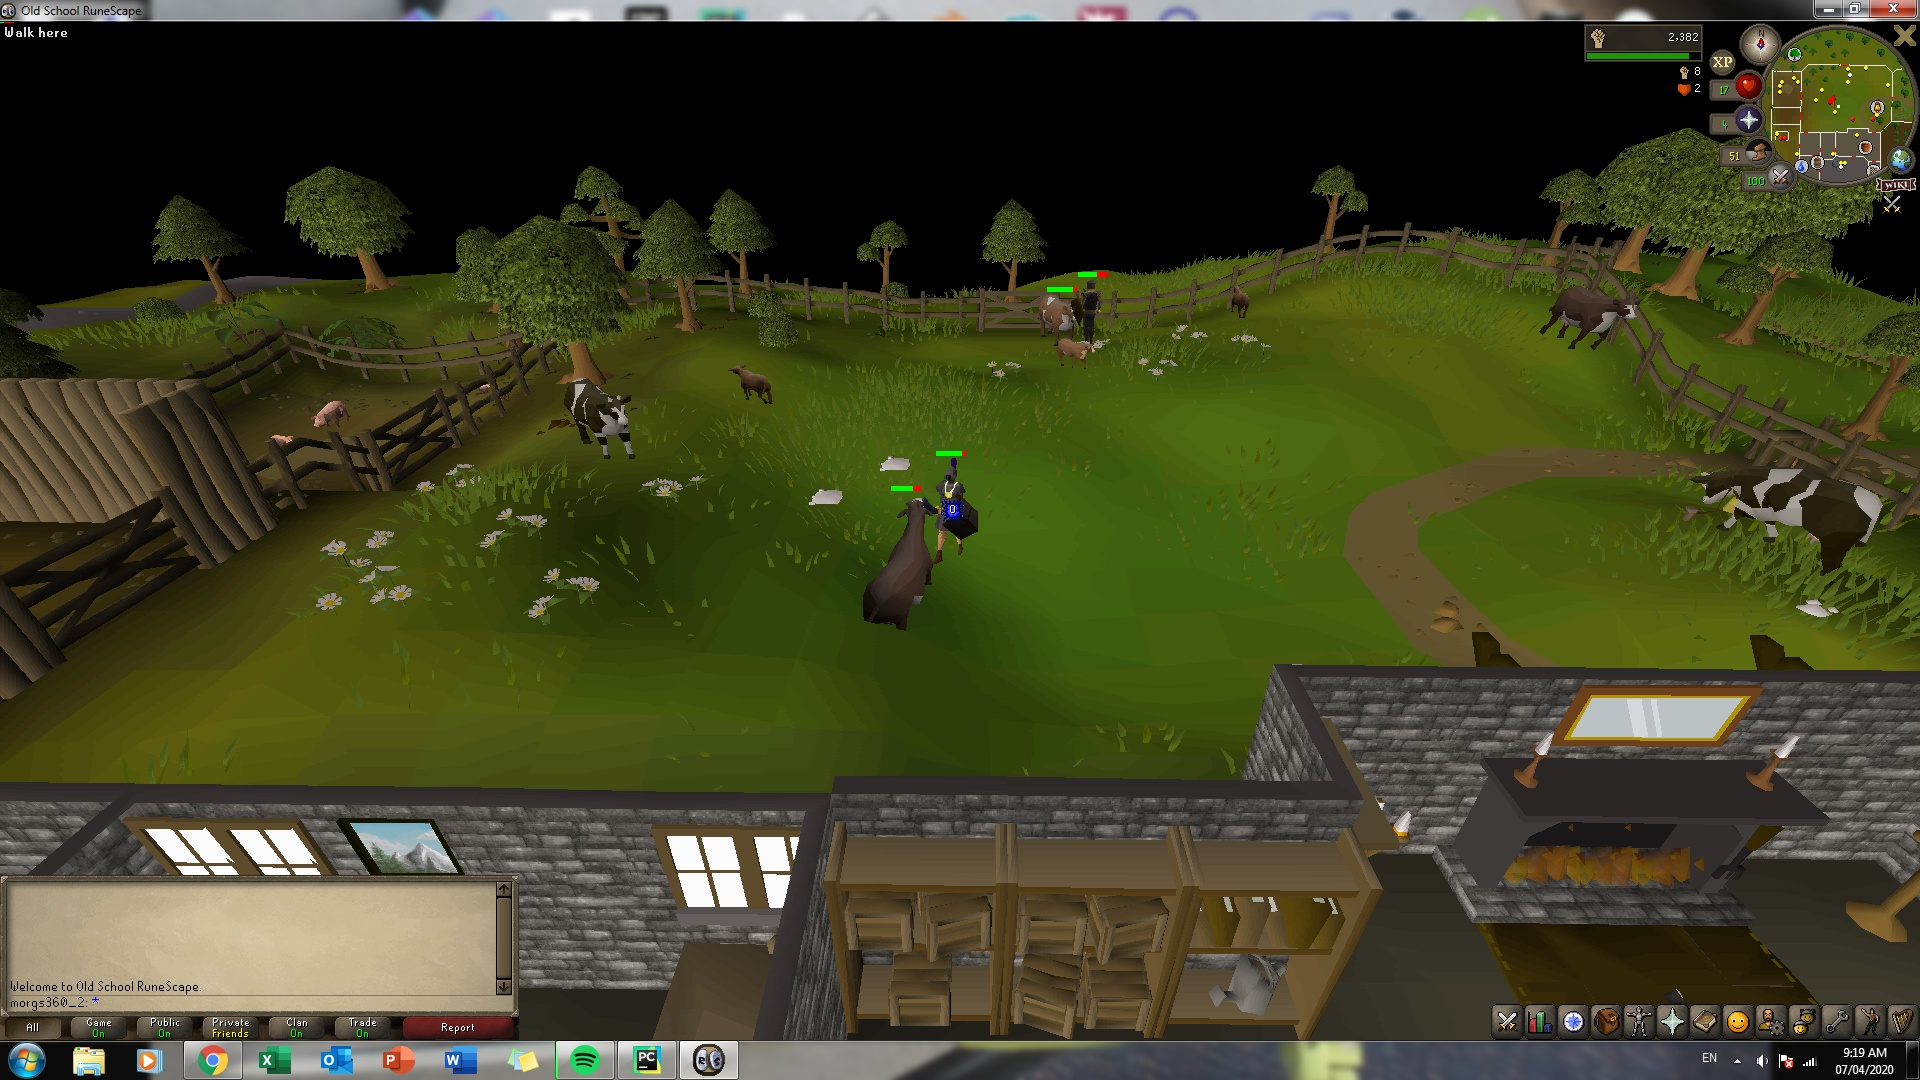cow: (852, 495, 945, 632), (558, 375, 642, 463), (1545, 282, 1639, 349), (1033, 291, 1083, 344)
